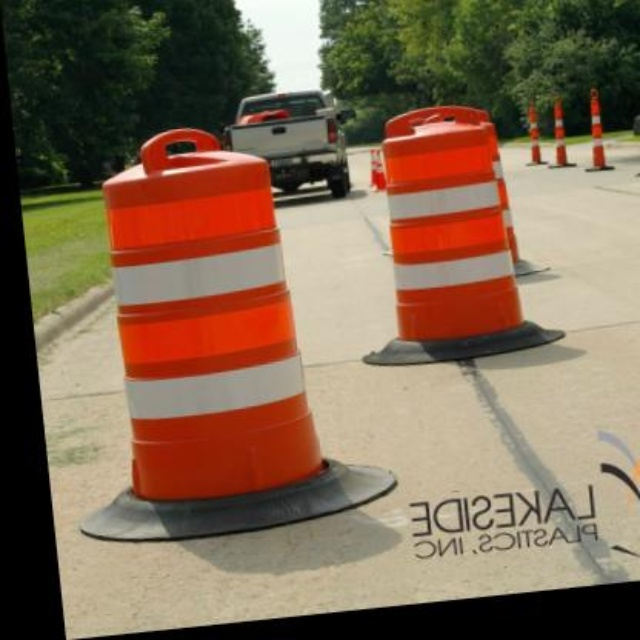obstacle: (74, 127, 301, 517), (357, 117, 519, 361)
